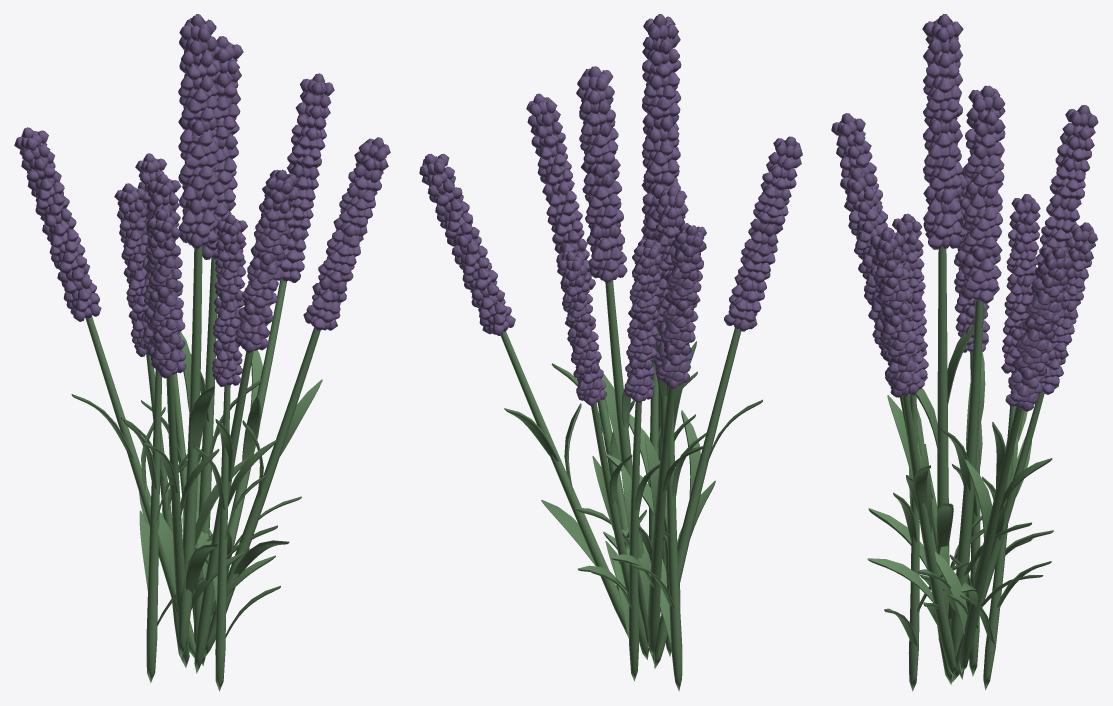
Rendered from Lavender.fbx.
3 views of the same model, side by side, from view 1: azimuth 30°, elevation 25°; view 2: azimuth 150°, elevation 25°; view 3: azimuth 270°, elevation 25° (orthographic). The views are drawn at different scales.
Parts seen in each view (by area): view 1: pPlane23; view 2: pPlane23; view 3: pPlane23.
Boxes of the visible parts, x1=… form: pPlane23: x1=14, y1=14, x2=390, y2=691; pPlane23: x1=419, y1=14, x2=802, y2=691; pPlane23: x1=831, y1=14, x2=1098, y2=691.
Bounding box in the file's own units: 9.06 × 19.27 × 6.87.
